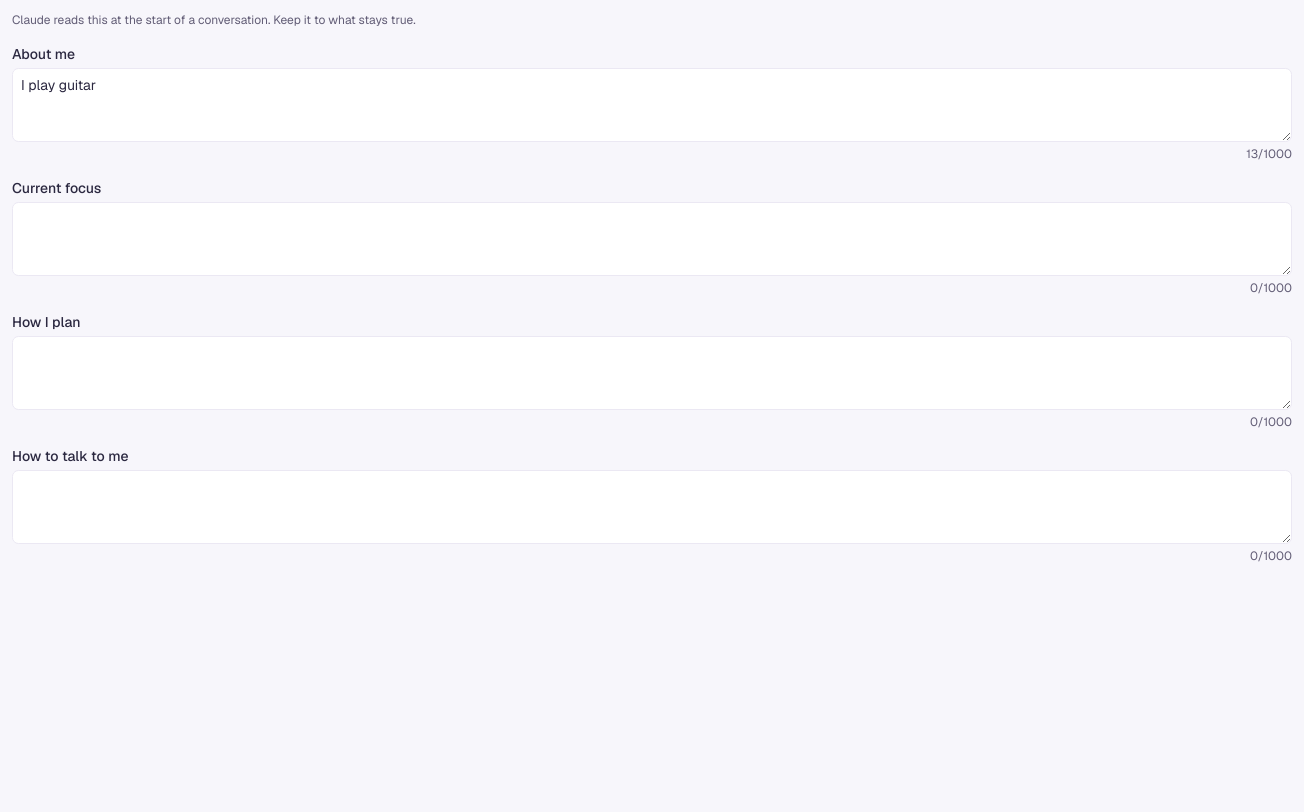
Test case: shows a character counter
Expected: the text "13/1000" is shown, [1246,146,1292,162]
Type "abc" into the text box labelled "Current focus" at (652, 239), box [12,202,1292,276]
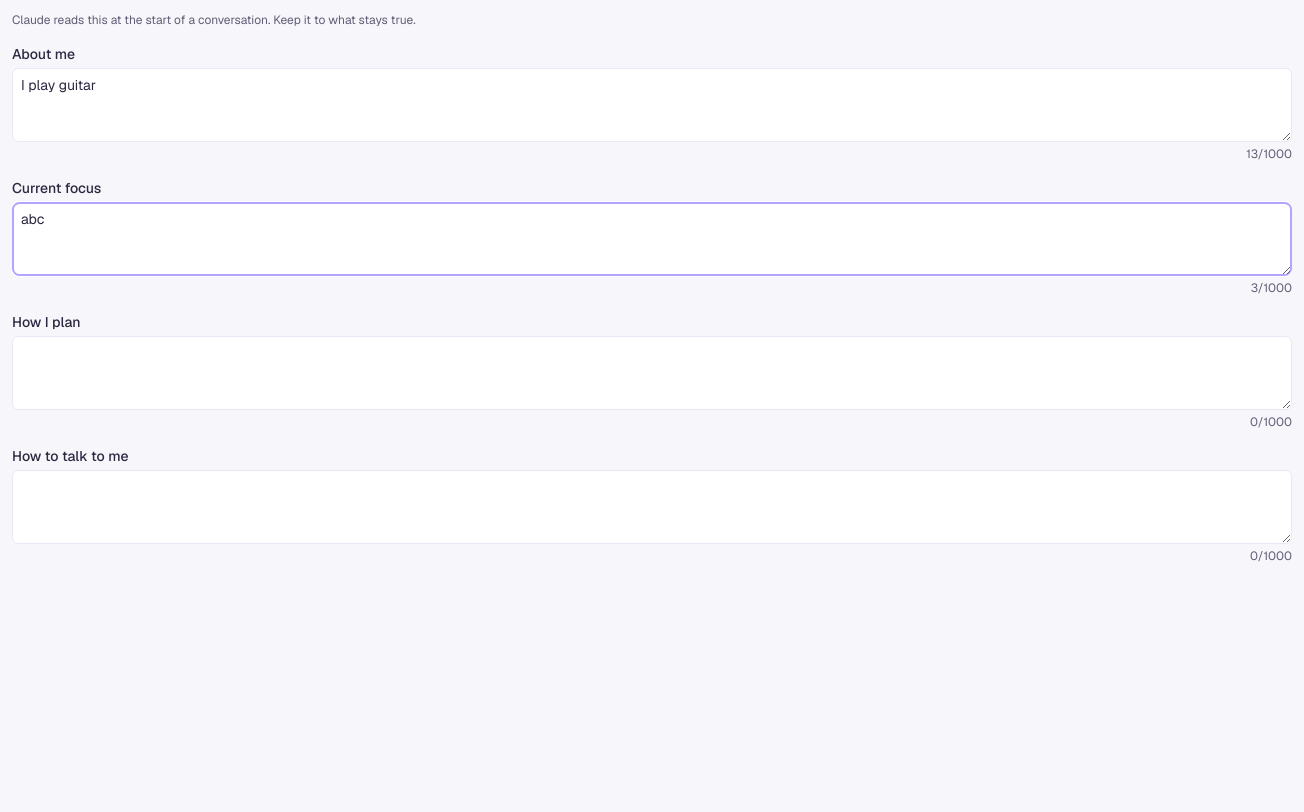
Result: the text "3/1000" is shown at [1251,280,1292,296]
